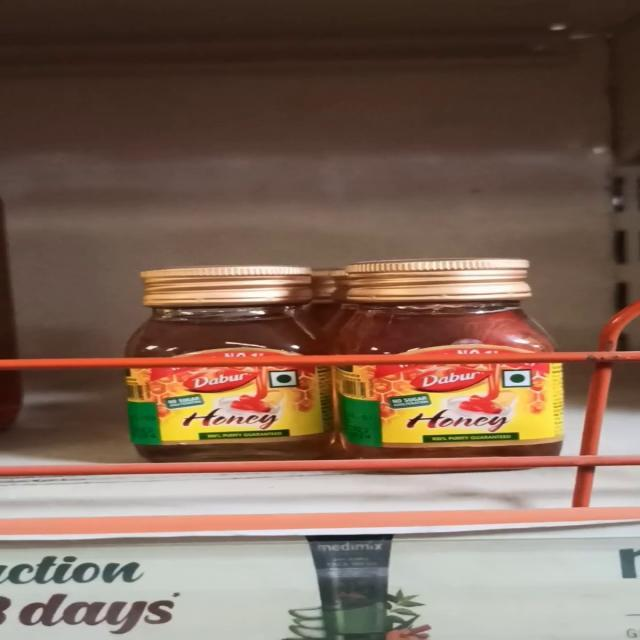Dabur Honey: (330, 255, 574, 460), (140, 266, 328, 458)
